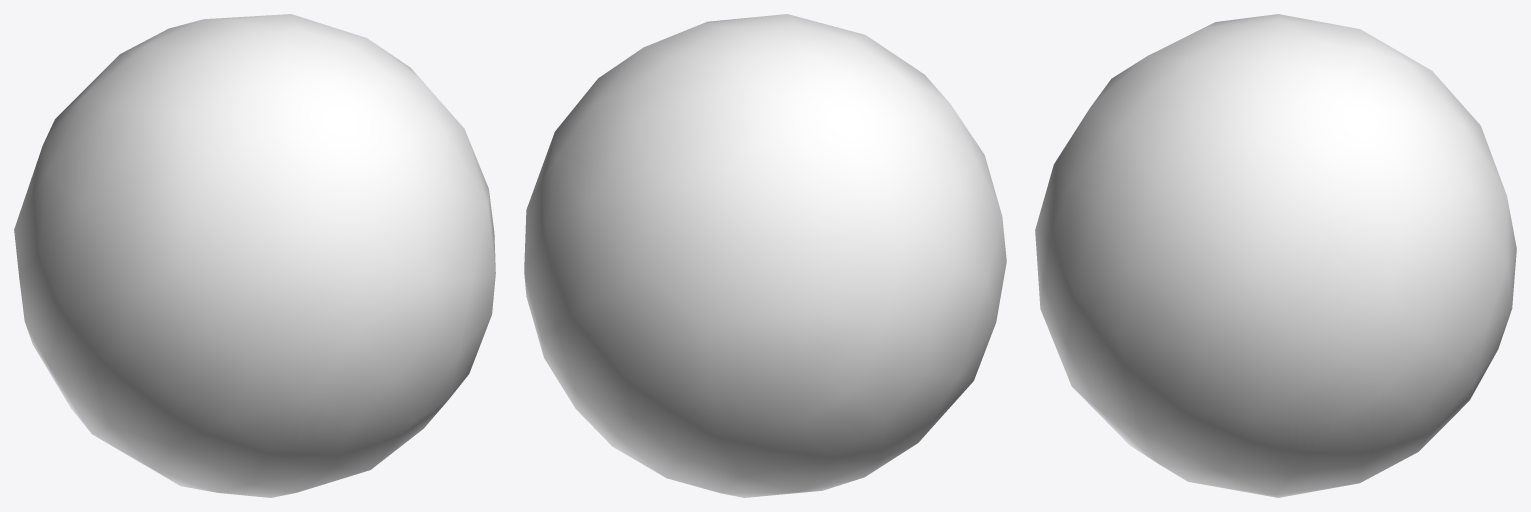
Rendered from PlayerBullet.fbx.
3 renders of one model, left to right at view 1: azimuth 30°, elevation 25°; view 2: azimuth 150°, elevation 25°; view 3: azimuth 270°, elevation 25°, orthographic.
Parts seen in each view (by area): view 1: Bullet; view 2: Bullet; view 3: Bullet.
Boxes of the visible parts, left/top/right/bottom form: Bullet: left=14, top=14, right=495, bottom=497; Bullet: left=524, top=14, right=1006, bottom=497; Bullet: left=1035, top=14, right=1516, bottom=497.
Size of what is drawn, in the model's own units: 4 by 4 by 4.
